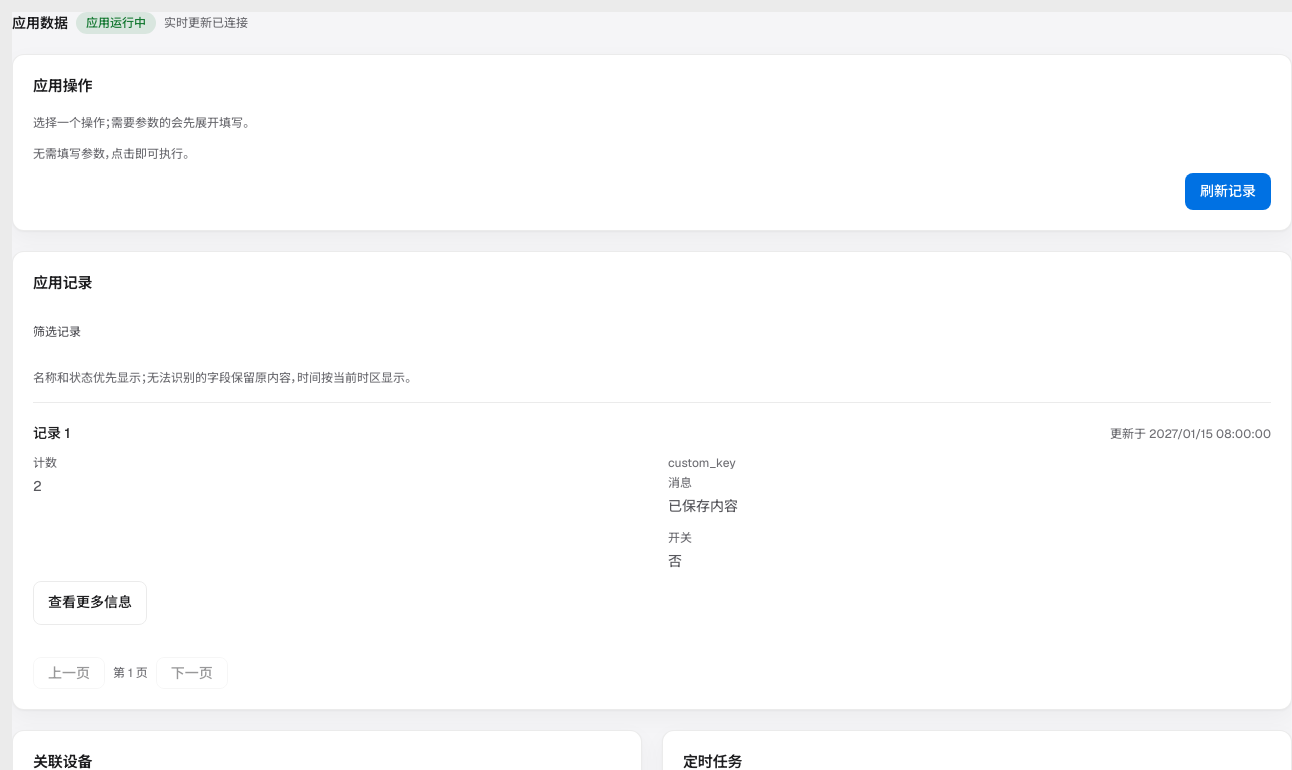
Scenario: 参数与不可信执行结果 › 机器字段只在原文展开，首屏显示人话摘要
Step 1. Click the button with aria-label "执行「刷新记录」" → (1228, 191), box [1185, 172, 1271, 210]
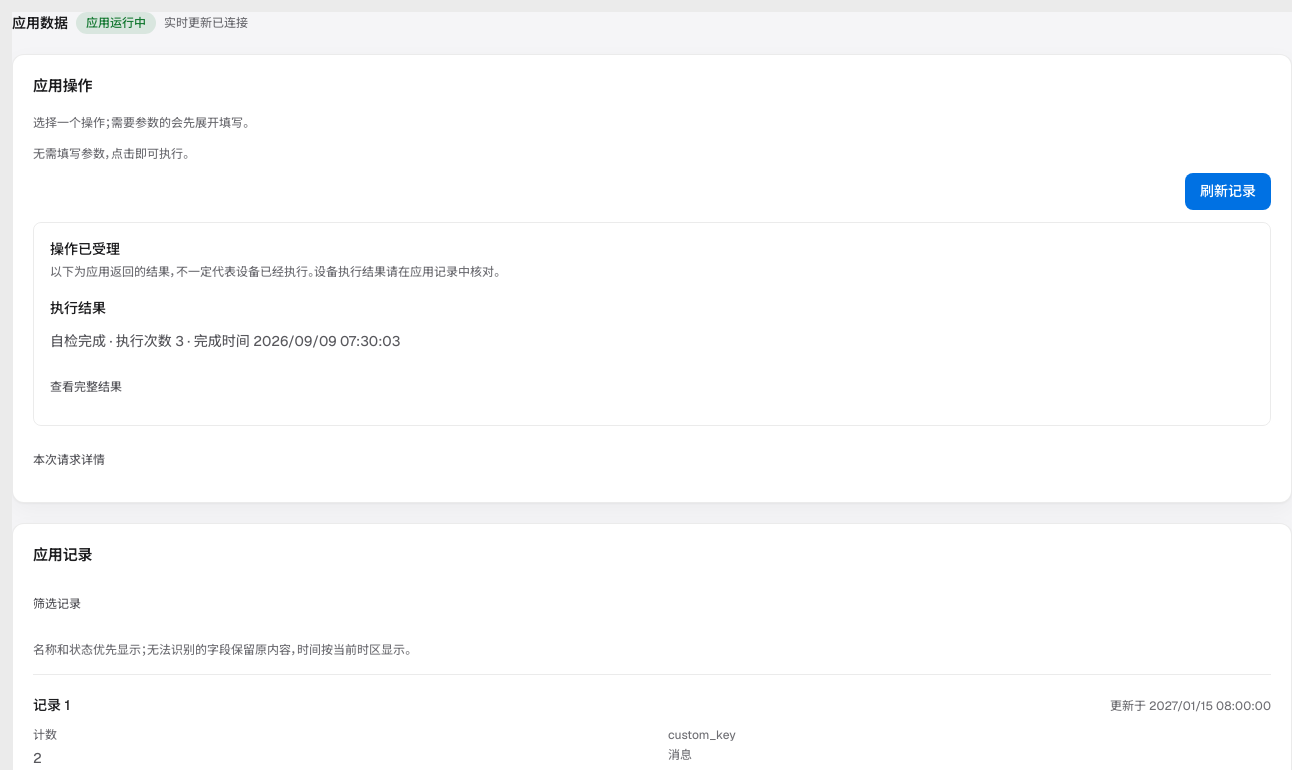
Expected: the text "run_count" is not shown
Expected: the text "自检完成 · 执行次数 3 · 完成时间 2026/09/09 07:30:03" is shown, [50, 332, 400, 350]
Step 2. Click the heading "查看完整结果" → (86, 387), box [50, 379, 122, 395]
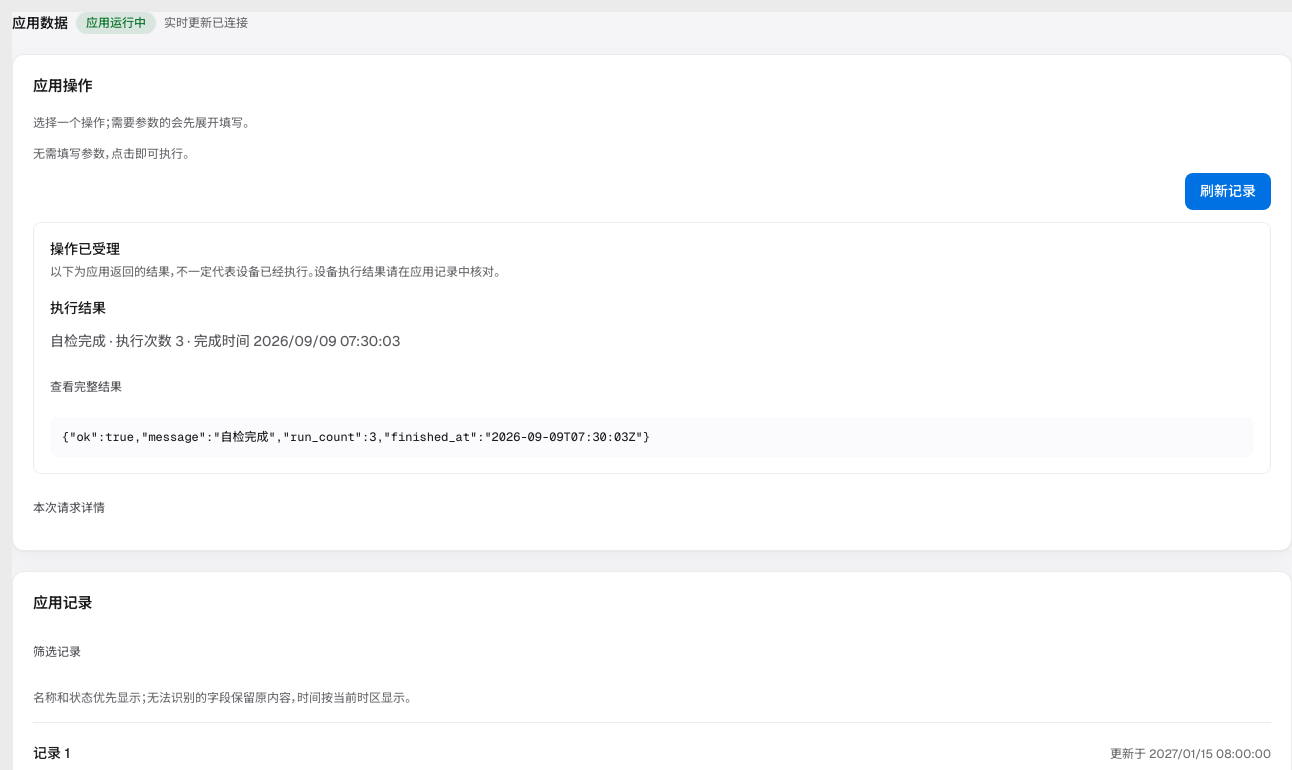
Expected: the text named "执行结果原文" shows "run_count", [62, 429, 650, 445]
Expected: the text named "执行结果原文" shows "finished_at", [62, 429, 650, 445]
